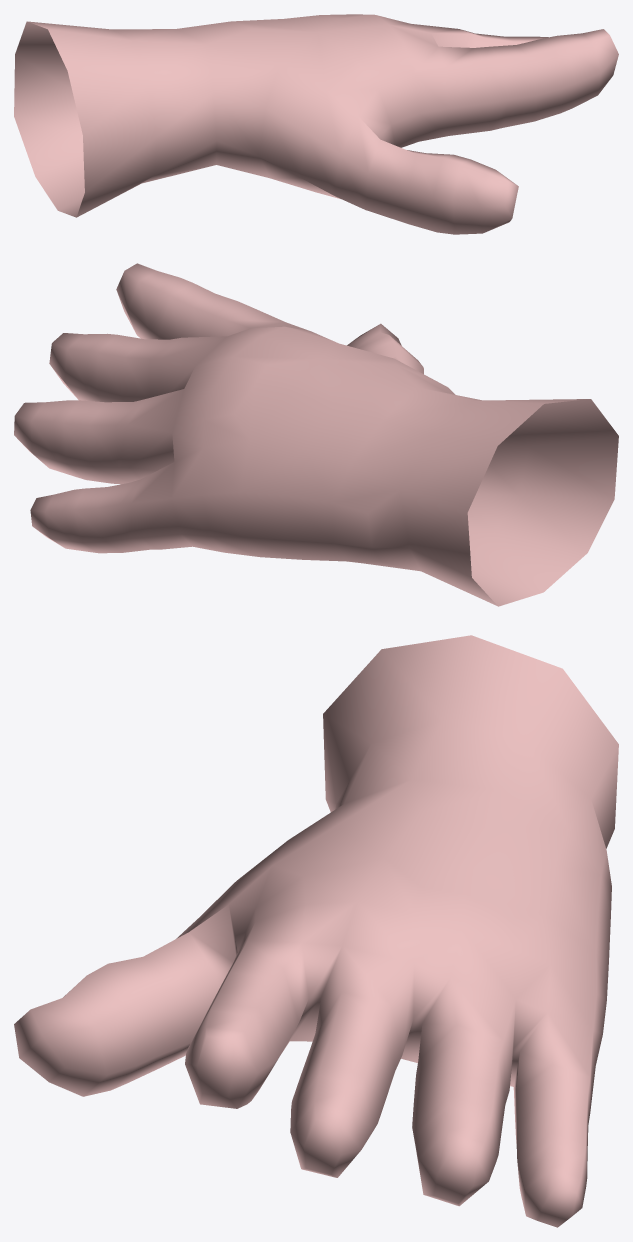
The model's file is Nendoroid_A_Hand01.fbx.
3 renders of one model, top to bottom at view 1: azimuth 30°, elevation 25°; view 2: azimuth 150°, elevation 25°; view 3: azimuth 270°, elevation 25°, orthographic. The views are drawn at different scales.
Parts seen in each view (by area): view 1: Nendoroid_A_Hand01; view 2: Nendoroid_A_Hand01; view 3: Nendoroid_A_Hand01.
Boxes of the visible parts, x1,y1,x2,y2 form: Nendoroid_A_Hand01: [14, 14, 618, 234]; Nendoroid_A_Hand01: [14, 263, 618, 606]; Nendoroid_A_Hand01: [14, 635, 618, 1227].
Size of the model in its own units: 0.5728 by 0.224 by 0.4046.
